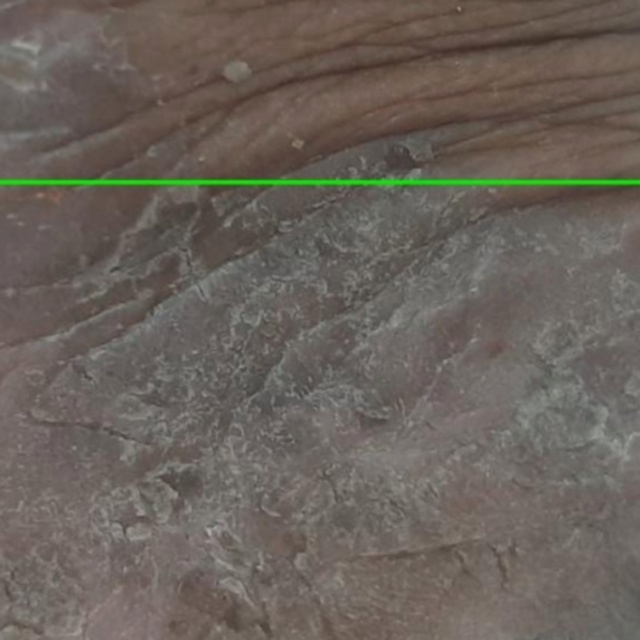Eczema: (0, 183, 639, 639)
